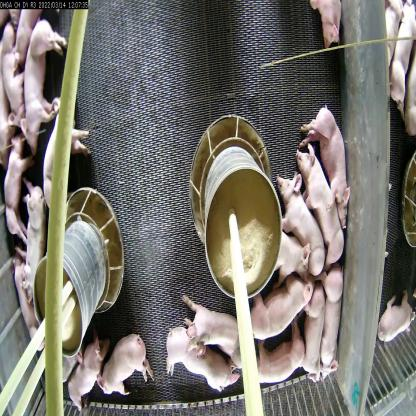Pig: (299, 96, 350, 233), (161, 326, 240, 400), (296, 146, 344, 266), (274, 171, 322, 276), (182, 299, 248, 374), (19, 13, 63, 125), (41, 96, 84, 200), (244, 270, 306, 340), (100, 332, 151, 412), (244, 330, 302, 389), (0, 132, 29, 230), (261, 229, 311, 277), (69, 333, 100, 409), (21, 189, 47, 279), (324, 275, 347, 374), (306, 280, 325, 383), (0, 20, 23, 103)
